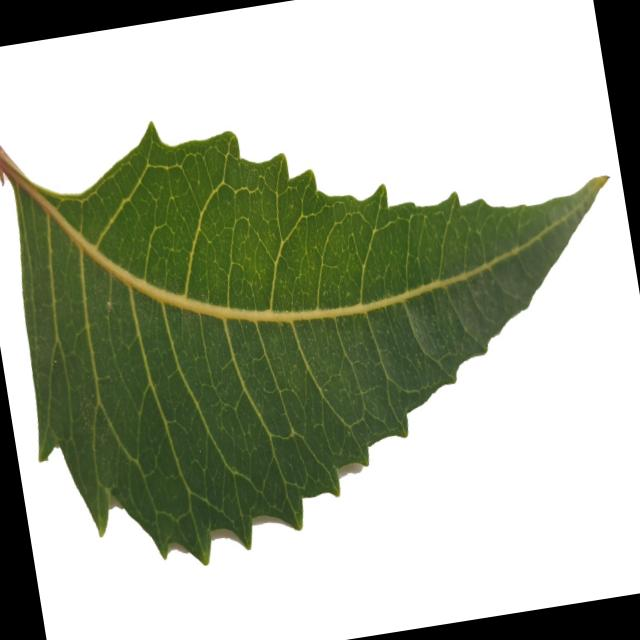Medicinal-Neem: (0, 40, 640, 590)
